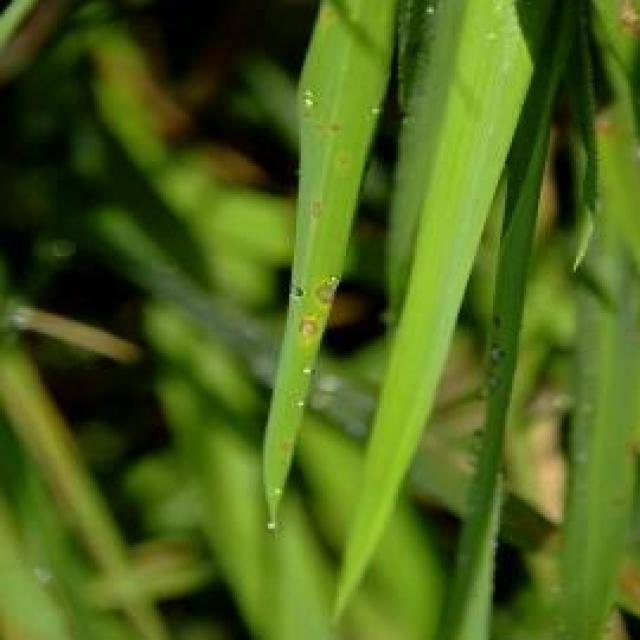Leaf_Blast: (306, 258, 368, 320), (272, 310, 334, 372)
